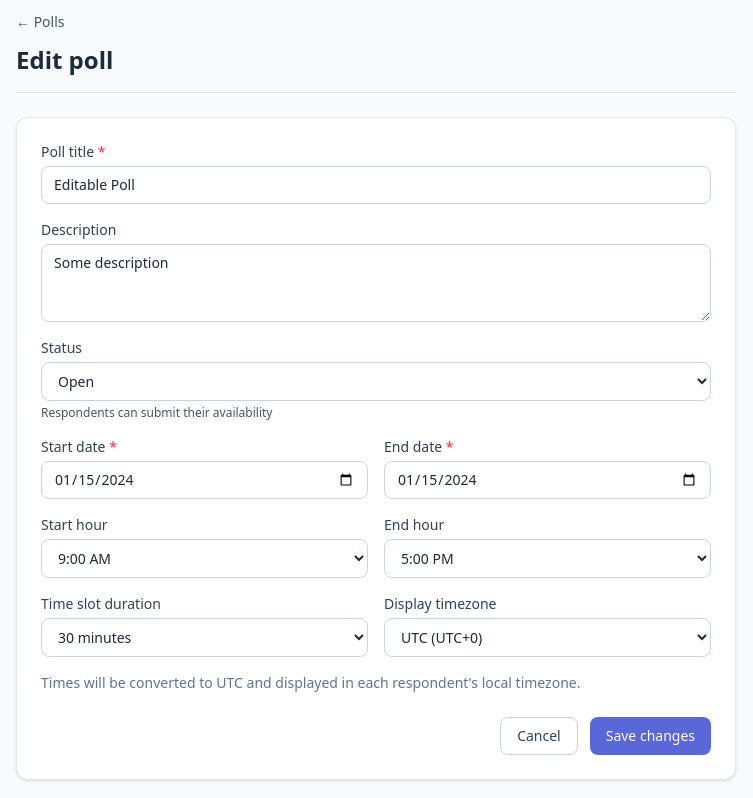
Test: PollEdit - submission › disables save when the title is cleared
The width and height of the screenshot is (753, 798).
Clear the field showing "Editable Poll" at (376, 185), box [41,166,711,204]
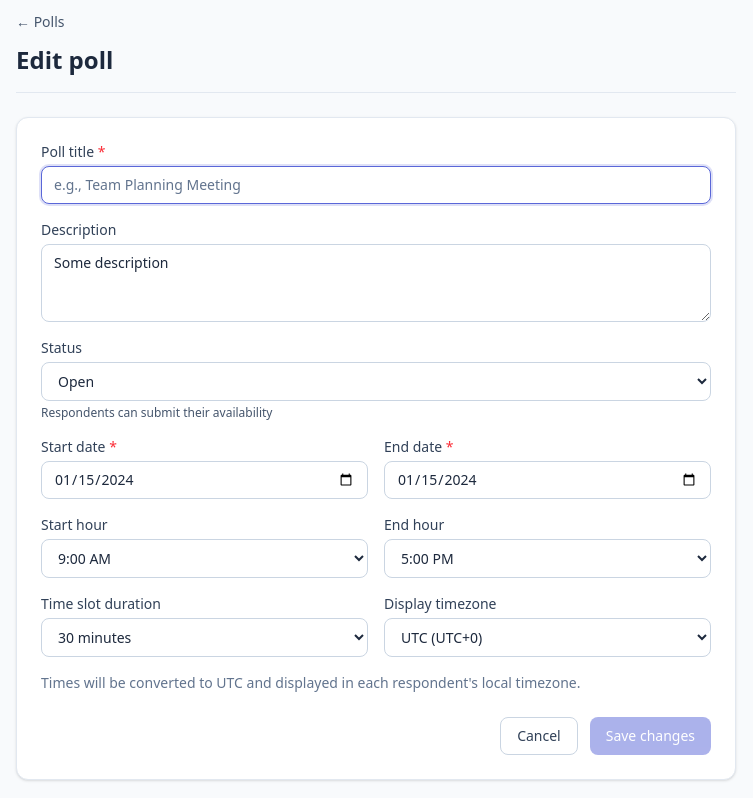
Check: the button "Save changes" is disabled, box [590,717,711,755]
